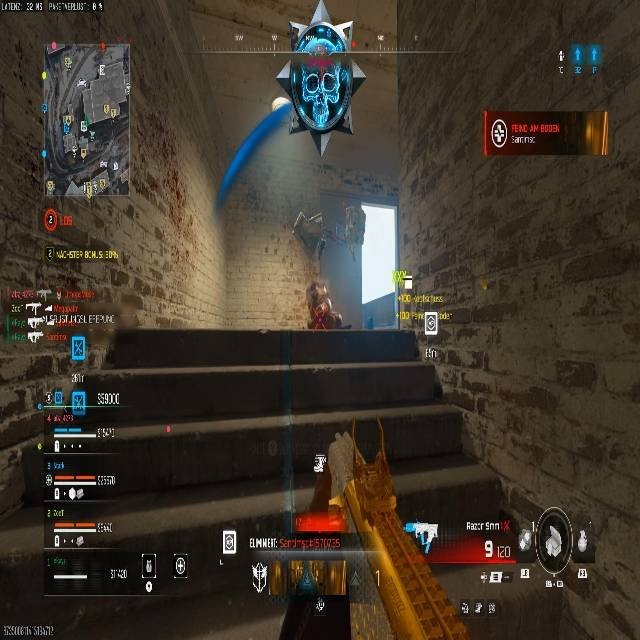head: (298, 0, 345, 53)
player: (274, 14, 363, 135), (306, 279, 331, 330)
